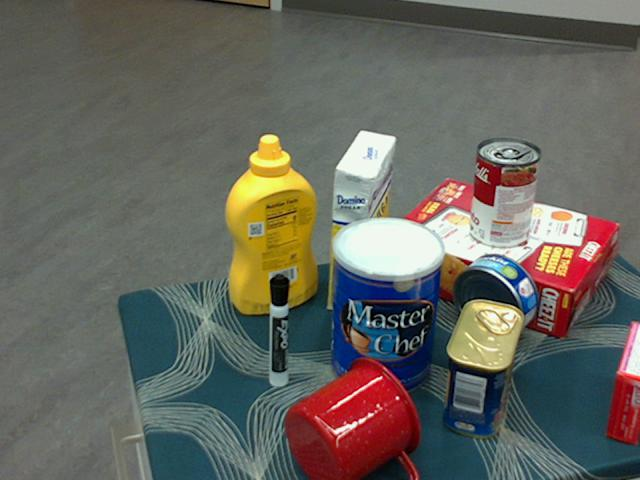cracker_box: (384, 180, 615, 335)
gelatin_box: (604, 322, 639, 444)
large_marker: (267, 273, 288, 388)
master_chef_can: (331, 217, 446, 399)
mug: (284, 357, 422, 479)
mustard_bottle: (224, 135, 317, 315)
potted_meat_can: (444, 300, 524, 438)
sugar_box: (326, 131, 396, 318)
tomato_soup_can: (470, 139, 541, 250)
tuna_fish_can: (453, 253, 540, 339)
